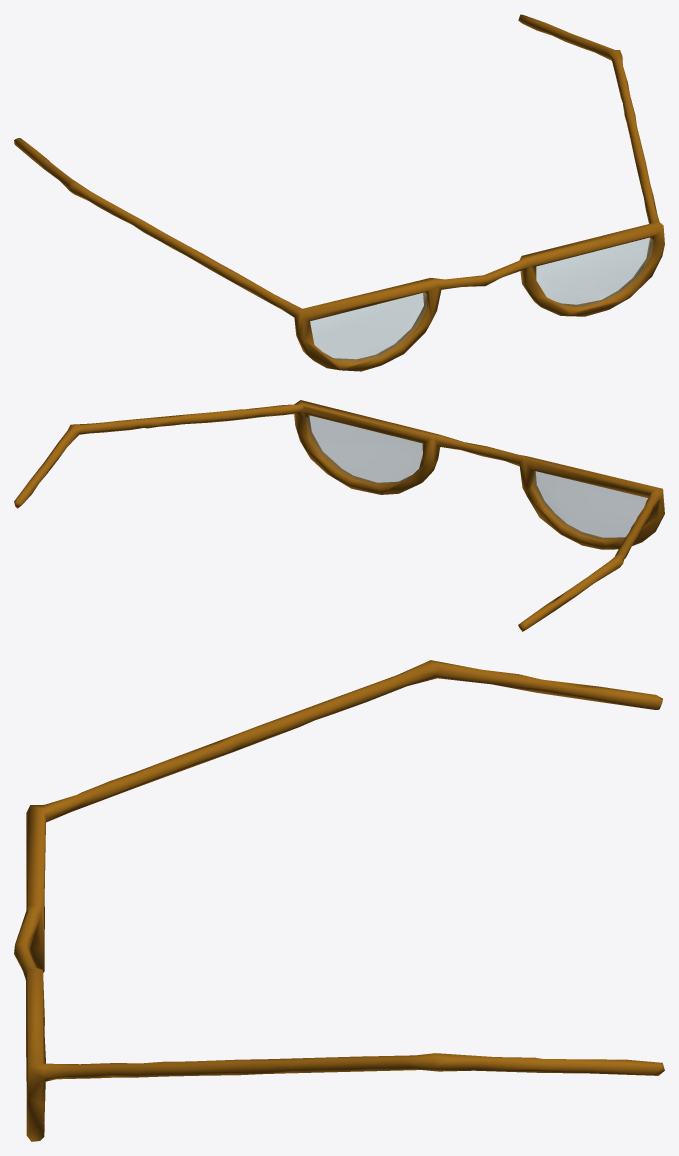
File: kinhlao.glb
3 renders of one model, top to bottom at view 1: azimuth 30°, elevation 25°; view 2: azimuth 150°, elevation 25°; view 3: azimuth 270°, elevation 25°, orthographic. The views are drawn at different scales.
Parts seen in each view (by area): view 1: Gong_KinhLao, Trong_KinhLao; view 2: Gong_KinhLao, Trong_KinhLao; view 3: Gong_KinhLao.
Part boxes in pixels (x1=…): Gong_KinhLao: x1=14, y1=14, x2=664, y2=371; Trong_KinhLao: x1=310, y1=237, x2=653, y2=361; Gong_KinhLao: x1=14, y1=400, x2=664, y2=631; Trong_KinhLao: x1=306, y1=415, x2=647, y2=539; Gong_KinhLao: x1=14, y1=660, x2=664, y2=1141.
Bounding box in the file's own units: 0.2546 × 0.0552 × 0.1747.
